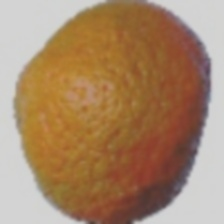tangerine: (50, 53, 211, 201)
